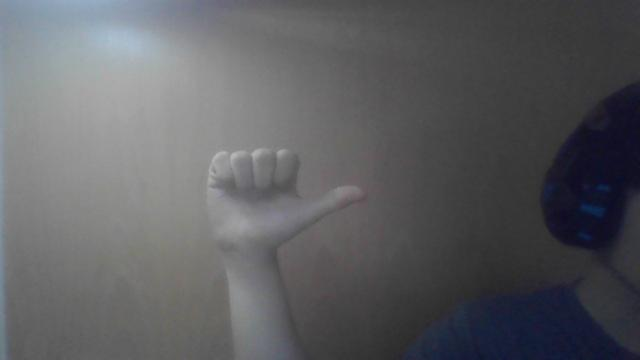left: (200, 145, 372, 253)
